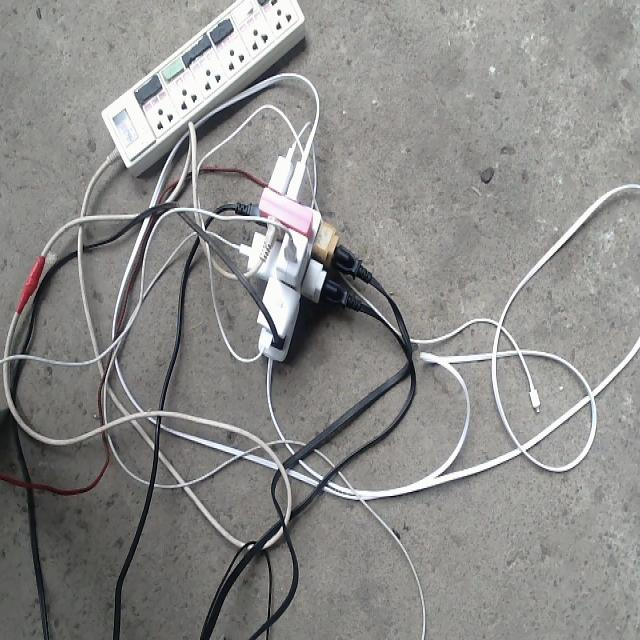-: (228, 145, 379, 360)
